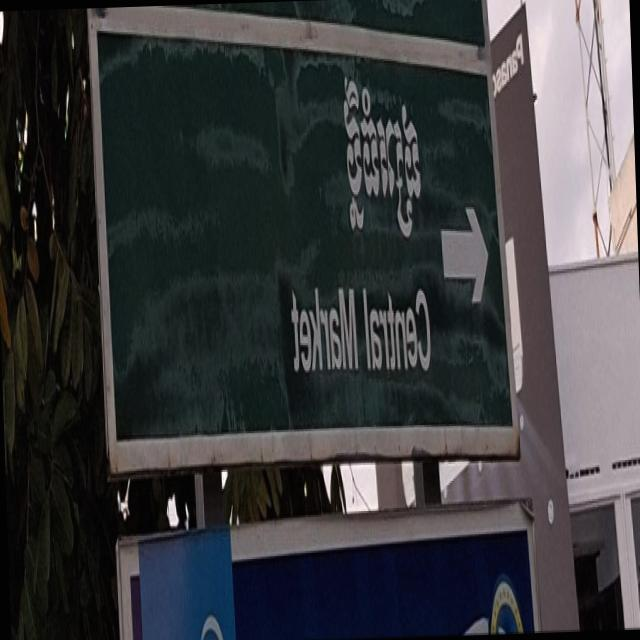Yolov11kh: (325, 56, 439, 290)
